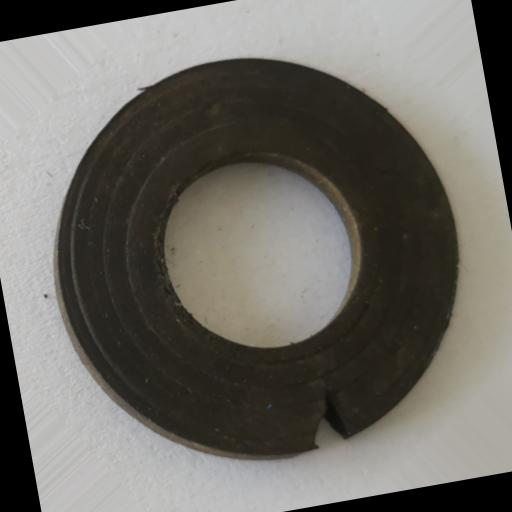defect: (300, 378, 352, 450)
